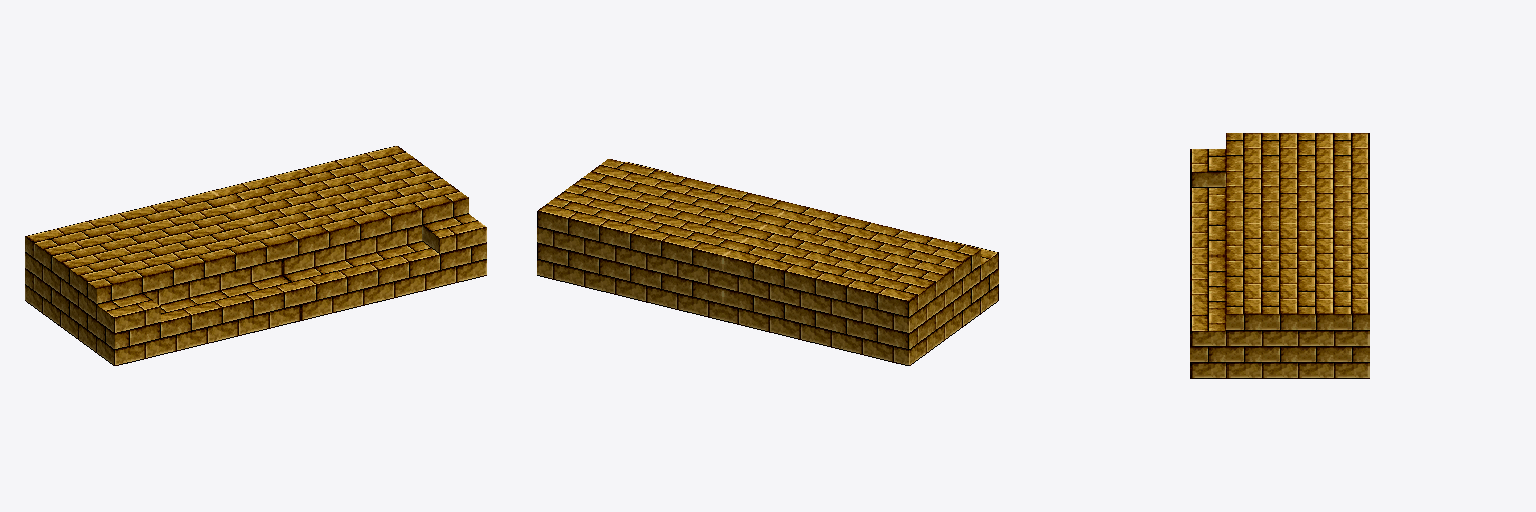
The picture shows the model from 3 angles: view 1: azimuth 30°, elevation 25°; view 2: azimuth 150°, elevation 25°; view 3: azimuth 270°, elevation 25°; orthographic projection.
Visible parts, largest first — view 1: iwante_dummy; view 2: iwante_dummy; view 3: iwante_dummy.
Part boxes in pixels (x1,y1,x2,y2): iwante_dummy: (25,146,486,365); iwante_dummy: (537,159,998,365); iwante_dummy: (1190,133,1369,378).
Bounding box in the file's own units: 104 × 17.25 × 43.12.
Materials: 1 (1 with a texture image).